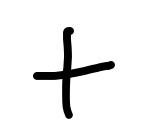plus: (33, 27, 115, 119)
